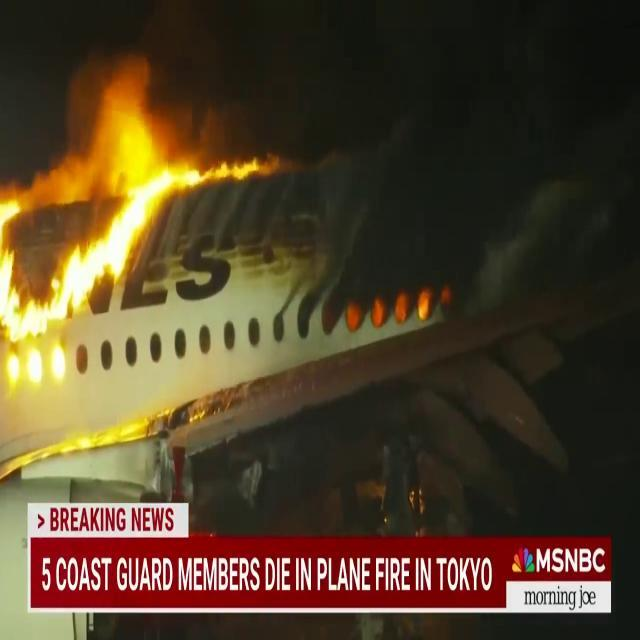Fire: (0, 83, 193, 380)
